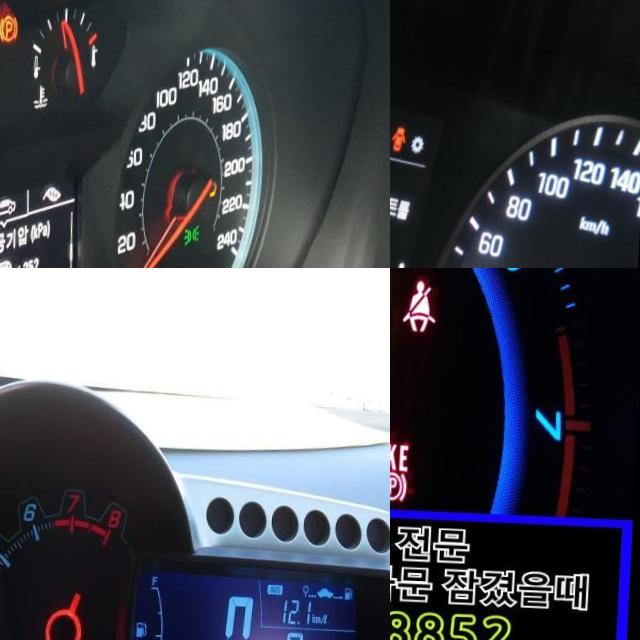Doors: (390, 119, 410, 150)
SideLamp: (185, 219, 202, 241)
